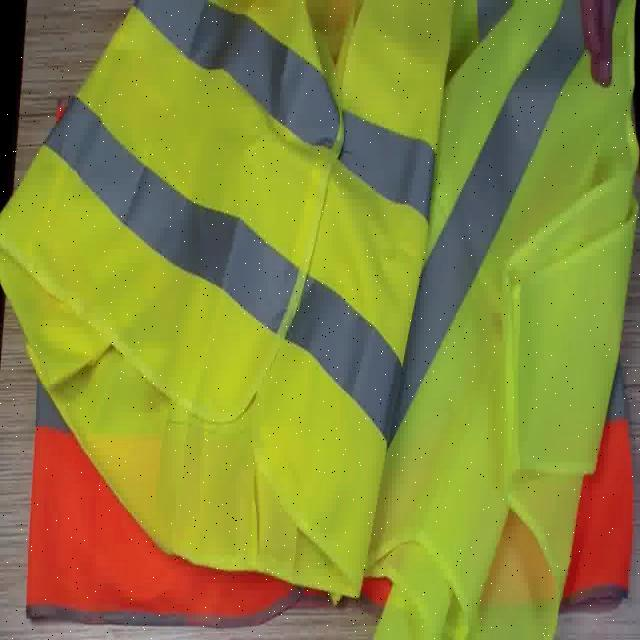Vest: (26, 82, 609, 640)
